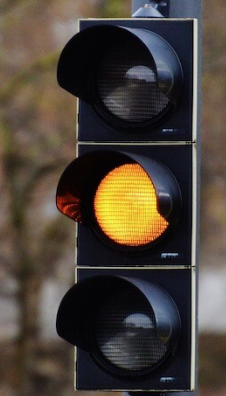yellow: (53, 5, 226, 396)
